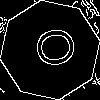O: (25, 25, 77, 71)
